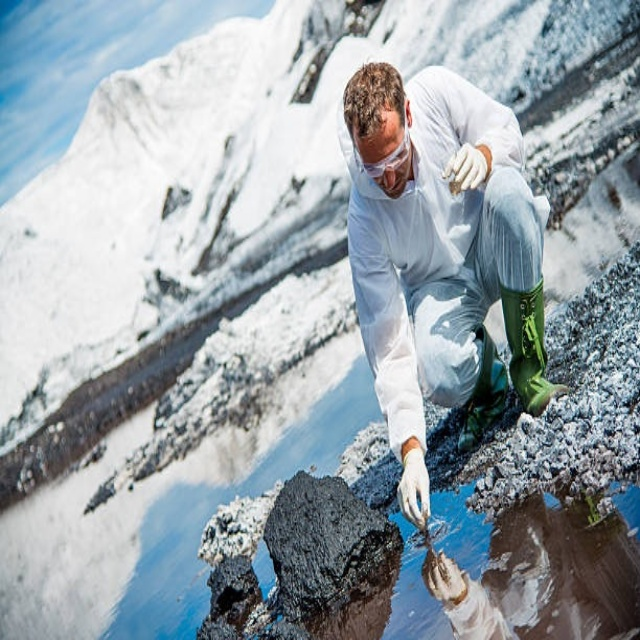Gafas: (358, 117, 411, 178)
Guantes: (422, 547, 469, 609), (397, 446, 431, 528), (443, 143, 489, 193)
Sin_mascara: (375, 174, 404, 201)
